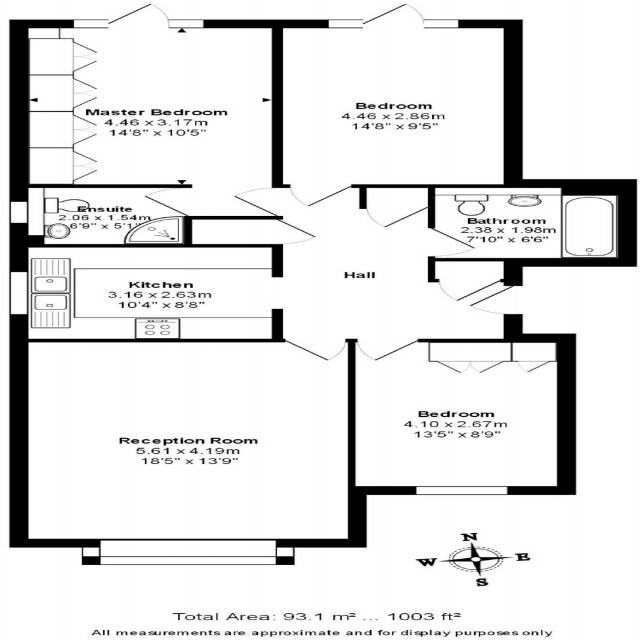DOOR: (465, 285, 523, 315), (230, 186, 285, 217), (141, 187, 193, 217), (428, 227, 478, 257), (288, 184, 353, 207), (356, 339, 419, 361), (284, 339, 347, 361)
ROOM: (9, 339, 367, 565), (271, 2, 523, 207), (9, 3, 284, 188), (347, 334, 577, 495), (8, 244, 284, 343)
WINDOW: (81, 538, 296, 566), (8, 271, 30, 315), (414, 486, 509, 495), (8, 201, 29, 224)
